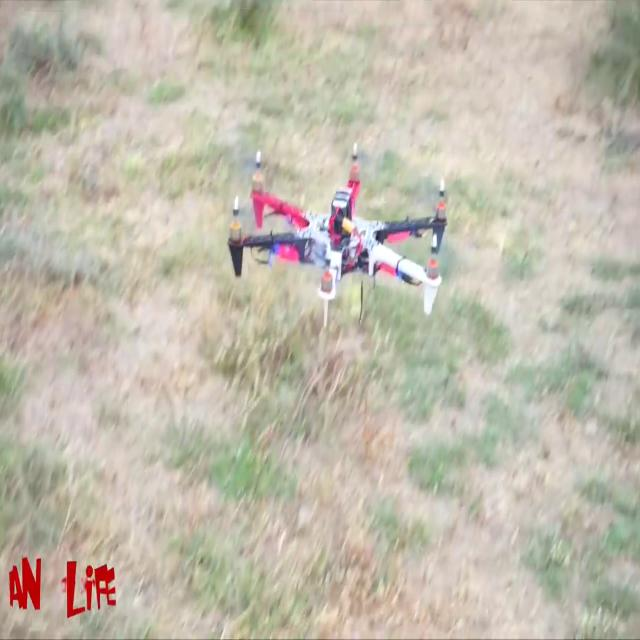drone: (192, 146, 460, 339)
